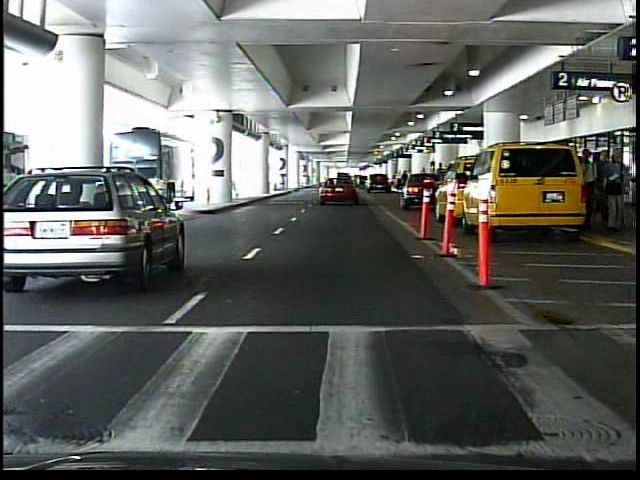person: (434, 160, 448, 202)
